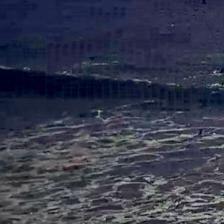surfer: (198, 0, 208, 6)
